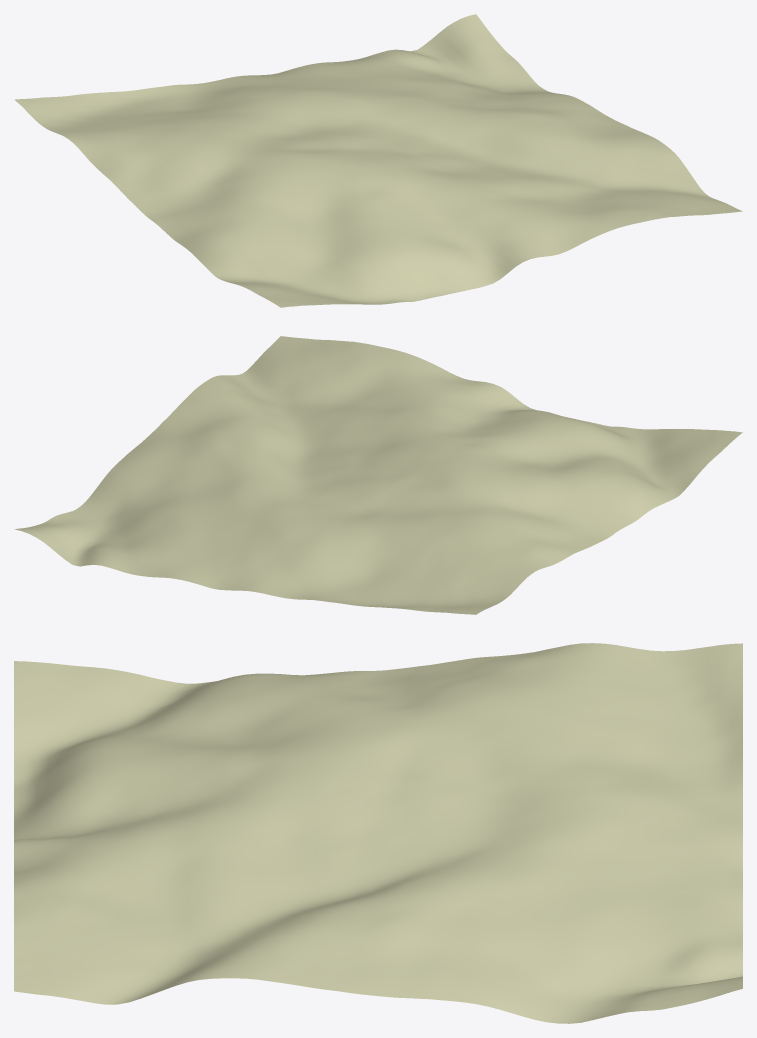
Rendered from Elements_Topography.glb.
3 renders of one model, top to bottom at view 1: azimuth 30°, elevation 25°; view 2: azimuth 150°, elevation 25°; view 3: azimuth 270°, elevation 25°, orthographic. The views are drawn at different scales.
Visible parts, largest first — view 1: 55b5f26b-4664-4b58-8a77-88efa9d9ef5c_mesh; view 2: 55b5f26b-4664-4b58-8a77-88efa9d9ef5c_mesh; view 3: 55b5f26b-4664-4b58-8a77-88efa9d9ef5c_mesh.
Boxes of the visible parts, <box> form: 55b5f26b-4664-4b58-8a77-88efa9d9ef5c_mesh: <box>14,14,742,307</box>; 55b5f26b-4664-4b58-8a77-88efa9d9ef5c_mesh: <box>14,336,742,614</box>; 55b5f26b-4664-4b58-8a77-88efa9d9ef5c_mesh: <box>14,643,742,1023</box>.
Size of the model in its own units: 1223 by 145 by 1223.
